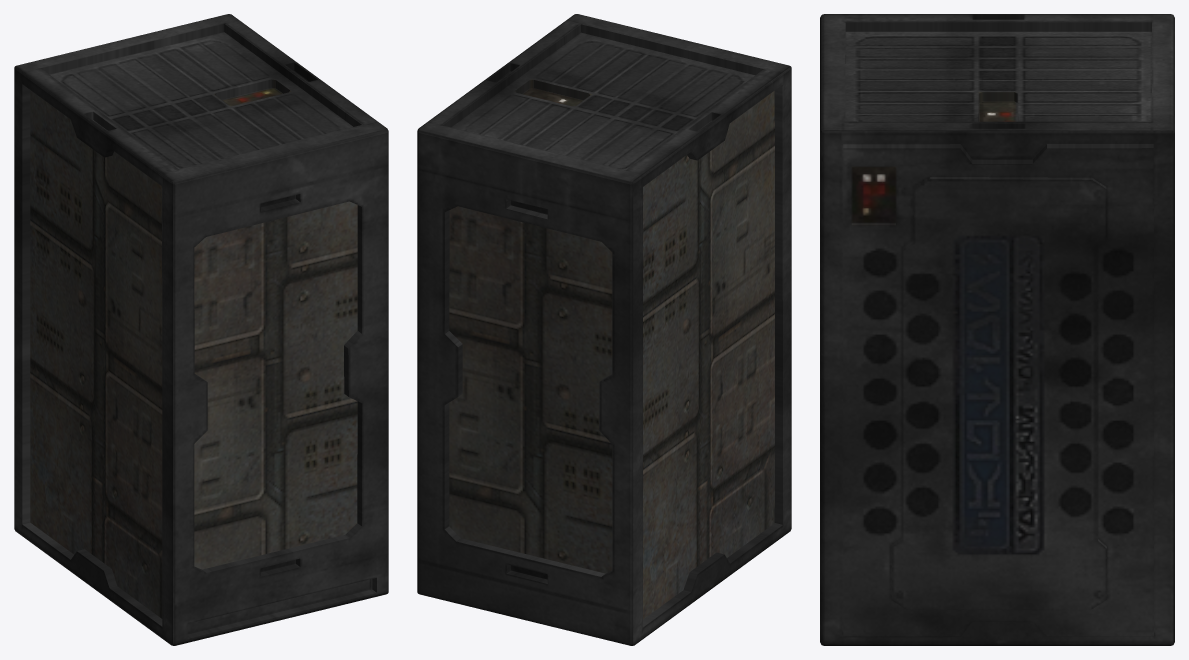
File: machinery_2.dae
3 renders of one model, left to right at view 1: azimuth 30°, elevation 25°; view 2: azimuth 150°, elevation 25°; view 3: azimuth 270°, elevation 25°, orthographic. The views are drawn at different scales.
Visible parts, largest first — view 1: machinery_2; view 2: machinery_2; view 3: machinery_2.
Part boxes in pixels (left/top/right/bottom): machinery_2: left=14, top=14, right=388, bottom=645; machinery_2: left=417, top=14, right=791, bottom=645; machinery_2: left=820, top=14, right=1174, bottom=645.
Bounding box in the file's own units: 0.58 × 0.7 × 1.13.
2 materials, 2 textured.
